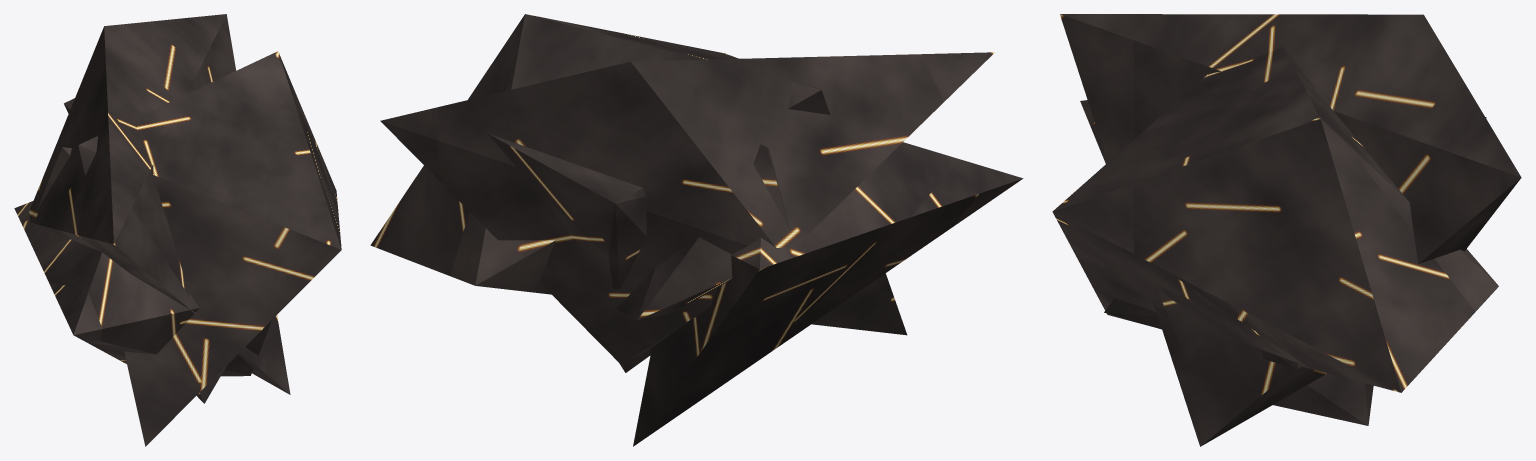
File: Debris.fbx
The picture shows the model from 3 angles, left to right: view 1: azimuth 30°, elevation 25°; view 2: azimuth 150°, elevation 25°; view 3: azimuth 270°, elevation 25°; orthographic projection. The views are drawn at different scales.
Visible parts, largest first — view 1: Rock4, Rock1, Rock5, Rock6; view 2: Rock1, Rock5, Rock4, Rock2, Rock6; view 3: Rock4, Rock1, Rock5, Rock6.
Part boxes in pixels (box(x1,y1,x2,y2)): Rock4: box(78, 51, 341, 446); Rock1: box(29, 14, 290, 394); Rock5: box(14, 201, 271, 376); Rock6: box(37, 147, 226, 403); Rock1: box(380, 52, 994, 364); Rock5: box(633, 142, 1023, 446); Rock4: box(370, 14, 907, 335); Rock2: box(487, 133, 651, 372); Rock6: box(616, 144, 789, 320); Rock4: box(1052, 46, 1498, 392); Rock1: box(1060, 14, 1521, 446); Rock5: box(1080, 100, 1373, 425); Rock6: box(1104, 298, 1301, 369).
Size of the model in its own units: 1.48 by 1.2 by 1.28.
1 material, 1 textured.
